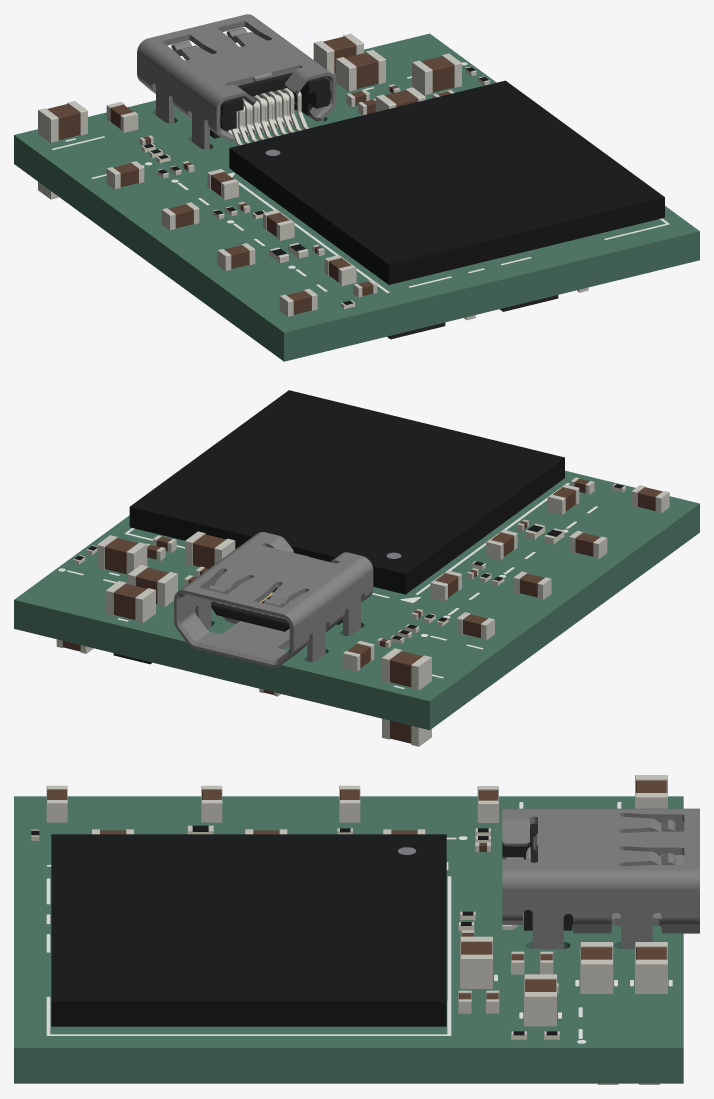
The model's file is frontend-14l-v14.glb.
The picture shows the model from 3 angles, top to bottom: view 1: azimuth 30°, elevation 25°; view 2: azimuth 150°, elevation 25°; view 3: azimuth 270°, elevation 25°; orthographic projection. The views are drawn at different scales.
Visible parts, largest first — view 1: =>[0:1:1:365], CSG325_Body, =>[0:1:1:343], =>[0:1:1:3] (×5), =>[0:1:1:339] (×8), =>[0:1:1:363]; view 2: =>[0:1:1:365], CSG325_Body, =>[0:1:1:343], =>[0:1:1:3] (×6), =>[0:1:1:339] (×8), =>[0:1:1:363]; view 3: =>[0:1:1:365], CSG325_Body, =>[0:1:1:343], =>[0:1:1:3] (×5), =>[0:1:1:339] (×4), =>[0:1:1:363].
Boxes of the visible parts, <box> form: =>[0:1:1:365]: <box>14,33,699,361</box>; CSG325_Body: <box>229,80,664,284</box>; =>[0:1:1:343]: <box>137,14,336,149</box>; =>[0:1:1:3] (×5): <box>38,33,461,142</box>; =>[0:1:1:339] (×8): <box>106,101,356,316</box>; =>[0:1:1:363]: <box>52,62,669,292</box>; =>[0:1:1:365]: <box>14,470,699,730</box>; CSG325_Body: <box>129,390,564,594</box>; =>[0:1:1:343]: <box>174,532,373,667</box>; =>[0:1:1:3] (×6): <box>97,531,431,746</box>; =>[0:1:1:339] (×8): <box>342,484,669,671</box>; =>[0:1:1:363]: <box>58,483,597,688</box>; =>[0:1:1:365]: <box>14,796,683,1083</box>; CSG325_Body: <box>51,834,446,1026</box>; =>[0:1:1:343]: <box>502,808,699,948</box>; =>[0:1:1:3] (×5): <box>460,775,667,1026</box>; =>[0:1:1:339] (×4): <box>46,785,498,822</box>; =>[0:1:1:363]: <box>46,802,672,1043</box>.
Size of the model in its own units: 0.0226 by 0.00582 by 0.026.
